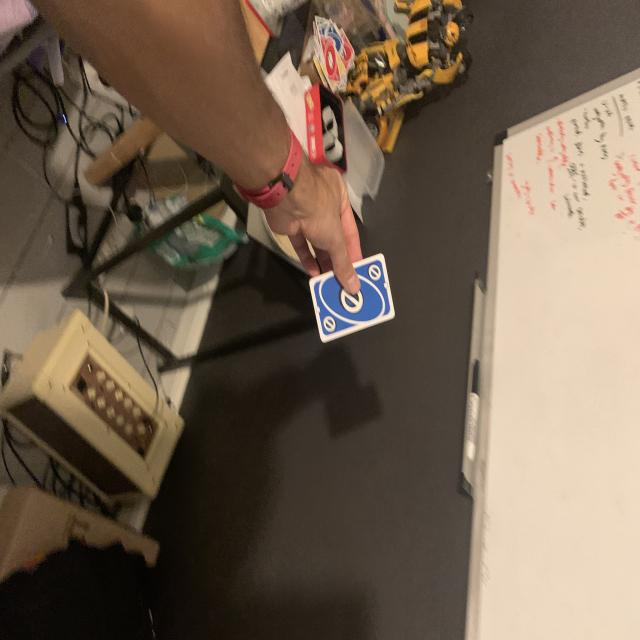lblueskip-20: (368, 258, 383, 284)
